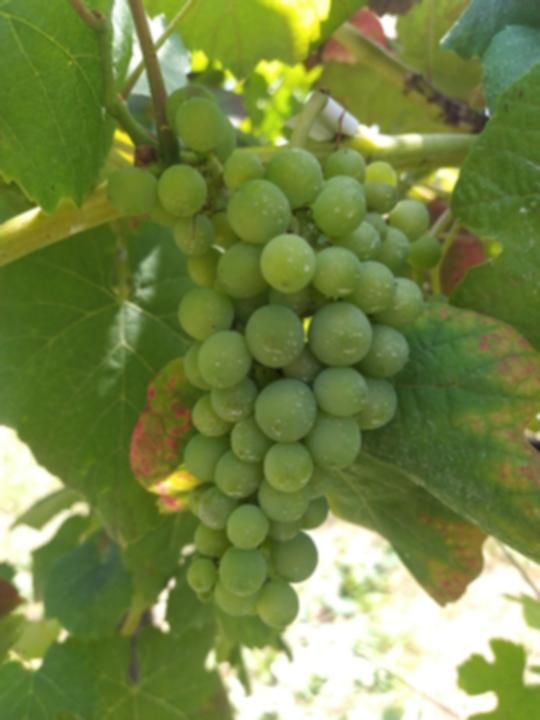grape: (104, 84, 444, 630)
